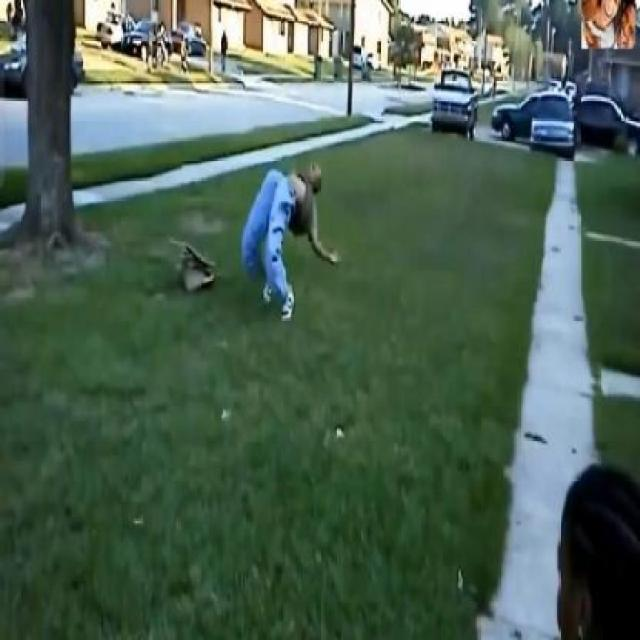fall: (248, 156, 338, 324)
